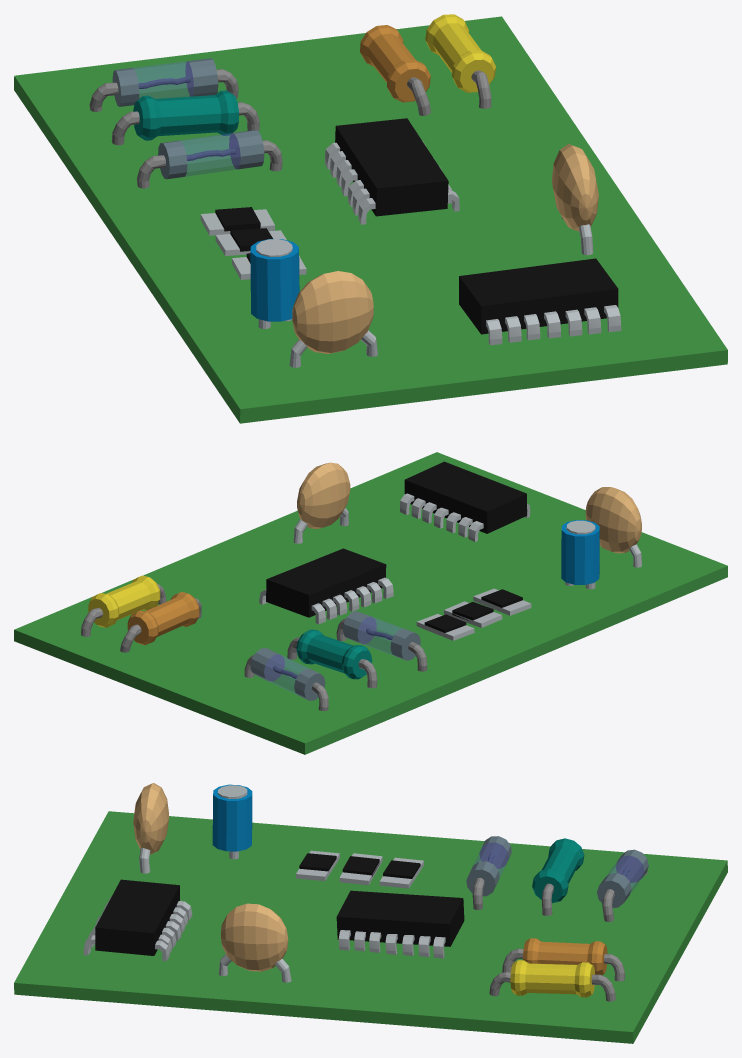
3 views of the same model, one above another, from view 1: azimuth 30°, elevation 25°; view 2: azimuth 150°, elevation 25°; view 3: azimuth 270°, elevation 25° (orthographic). The views are drawn at different scales.
Parts seen in each view (by area): view 1: node_MeshObject2095177728-PolyPaper5, node_MeshObject-1627710464-PolyGlass24; view 2: node_MeshObject2095177728-PolyPaper5, node_MeshObject-1627710464-PolyGlass24; view 3: node_MeshObject2095177728-PolyPaper5, node_MeshObject-1627710464-PolyGlass24.
Part boxes in pixels (box(x1,y1,x2,y2)): node_MeshObject2095177728-PolyPaper5: box(14, 14, 727, 423); node_MeshObject-1627710464-PolyGlass24: box(134, 61, 240, 176); node_MeshObject2095177728-PolyPaper5: box(14, 452, 727, 754); node_MeshObject-1627710464-PolyGlass24: box(264, 617, 402, 694); node_MeshObject2095177728-PolyPaper5: box(14, 783, 727, 1043); node_MeshObject-1627710464-PolyGlass24: box(474, 842, 644, 893).
Bounding box in the file's own units: 1.08 × 0.1934 × 1.41.
